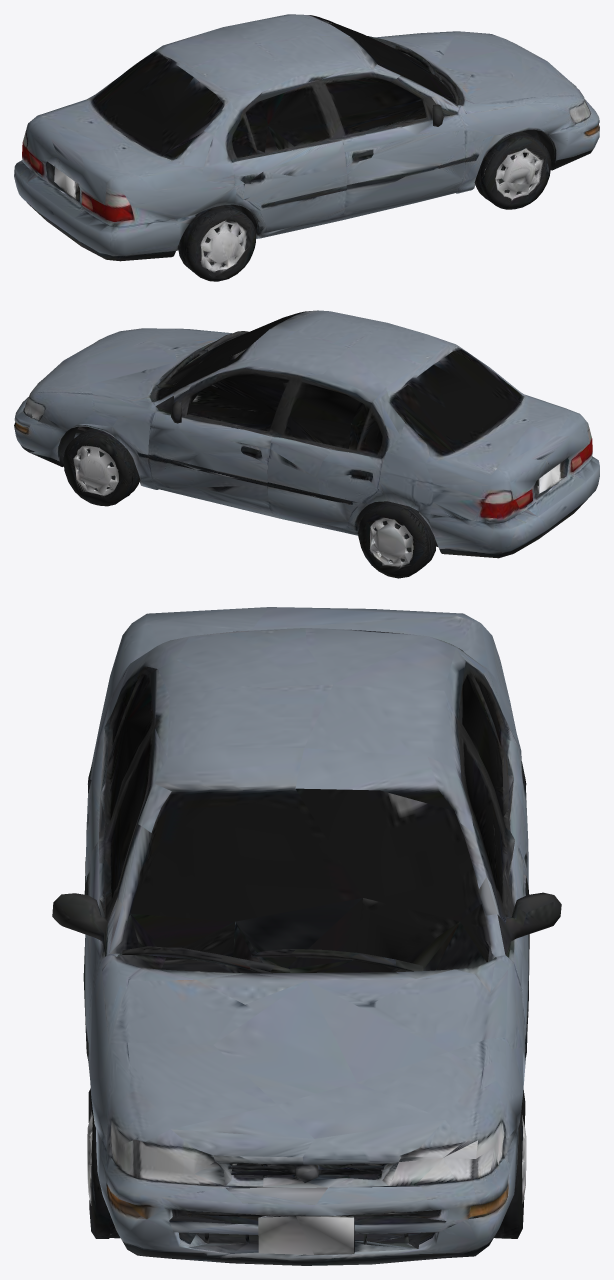
The model's file is car.glb.
The picture shows the model from 3 angles, top to bottom: view 1: azimuth 30°, elevation 25°; view 2: azimuth 150°, elevation 25°; view 3: azimuth 270°, elevation 25°; orthographic projection. The views are drawn at different scales.
Visible parts, largest first — view 1: Mesh_0; view 2: Mesh_0; view 3: Mesh_0.
Boxes of the visible parts, <box> form: Mesh_0: <box>14,14,599,281</box>; Mesh_0: <box>14,310,599,578</box>; Mesh_0: <box>52,607,561,1265</box>.
Size of the model in its own units: 4.2 by 1.34 by 1.79.
Materials: 1 (1 with a texture image).
